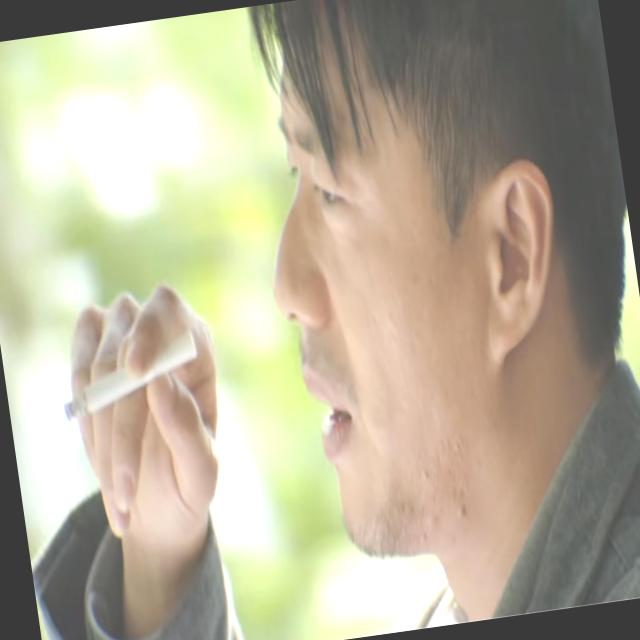smoke: (54, 325, 203, 418)
